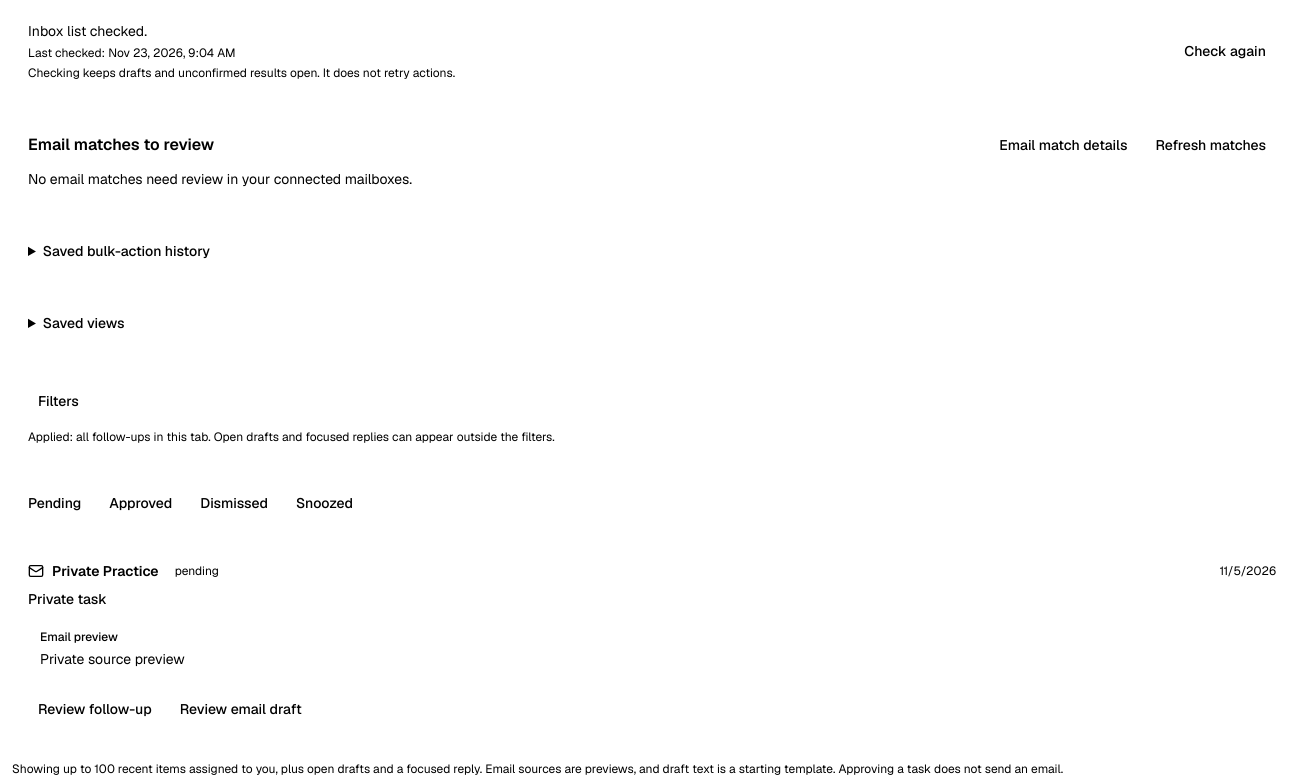
Test: ignores an older poll after a row-scoped access denial removes private content
(page scrolled)
Click the button "Review follow-up" at point(95, 709), box [28,693,162,725]
Wait 60000 ms
(page scrolled)
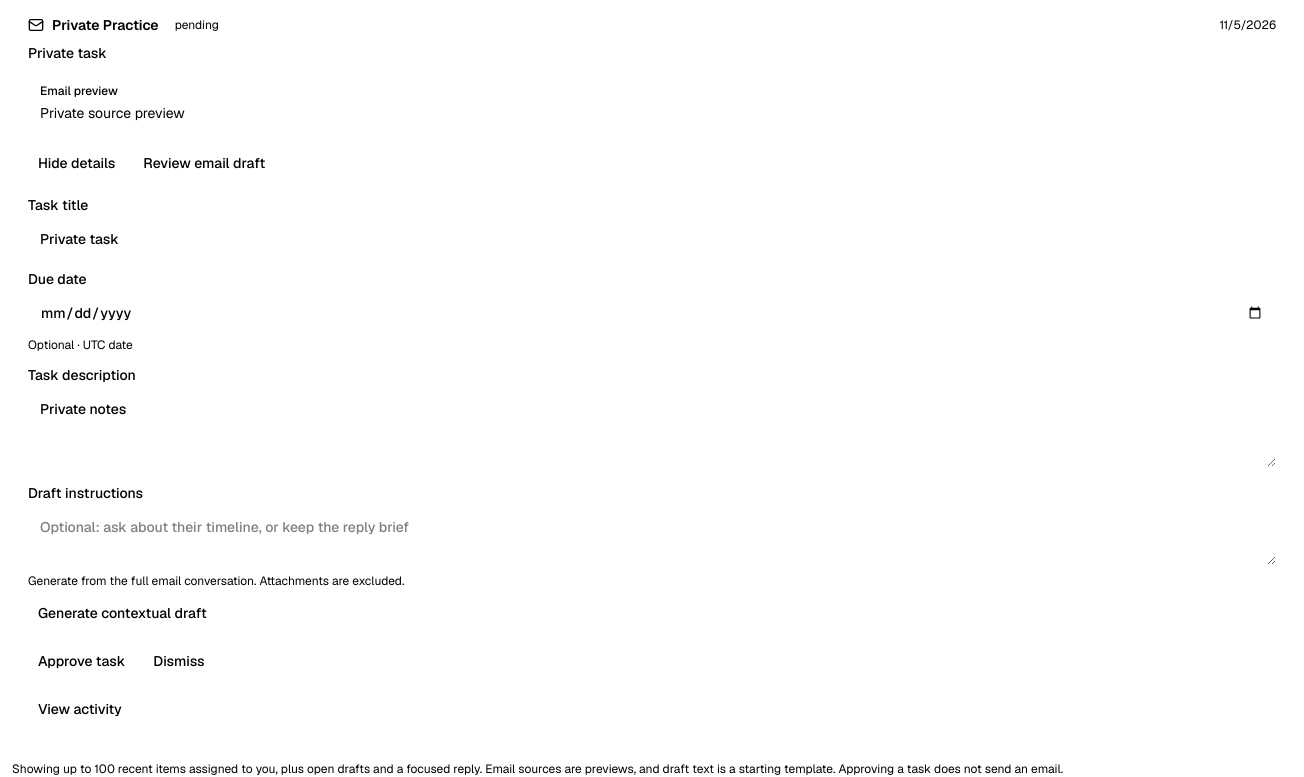
Click the button "Approve task" at point(82, 661), box [28,645,135,677]
(page scrolled)
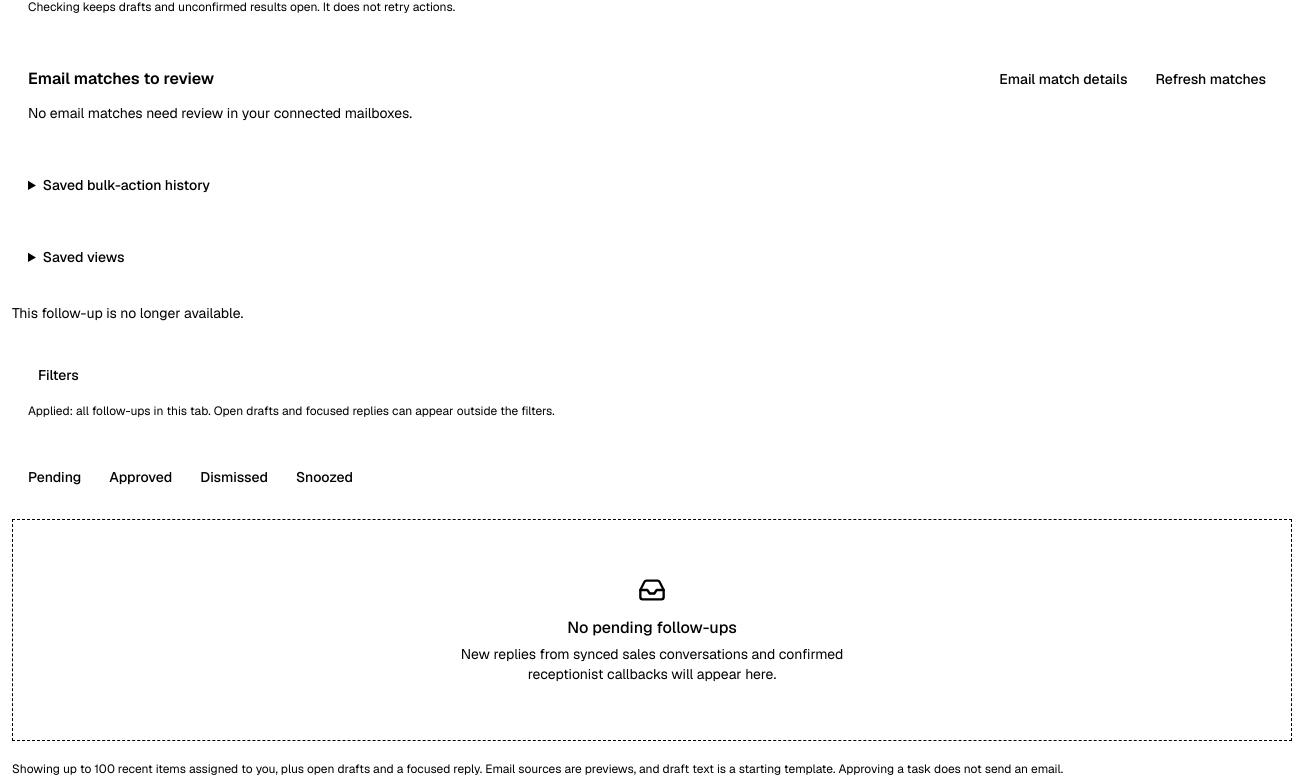
Expected: the text "Private source preview" is gone
